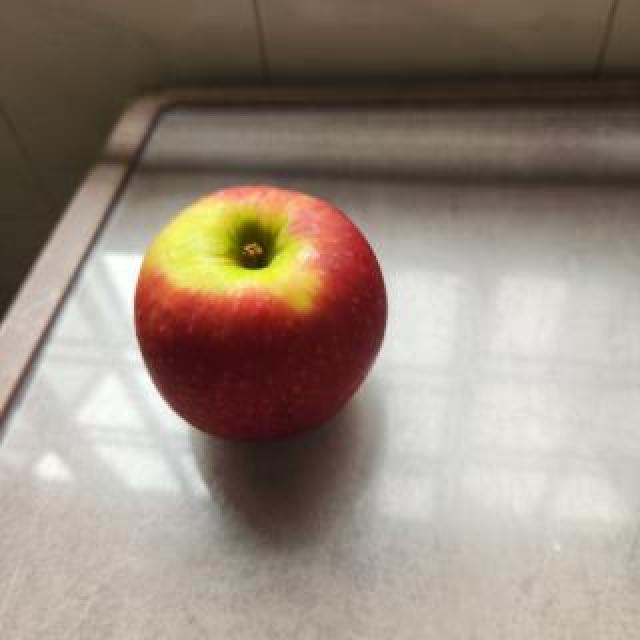Fresh Apple: (142, 193, 385, 449)
